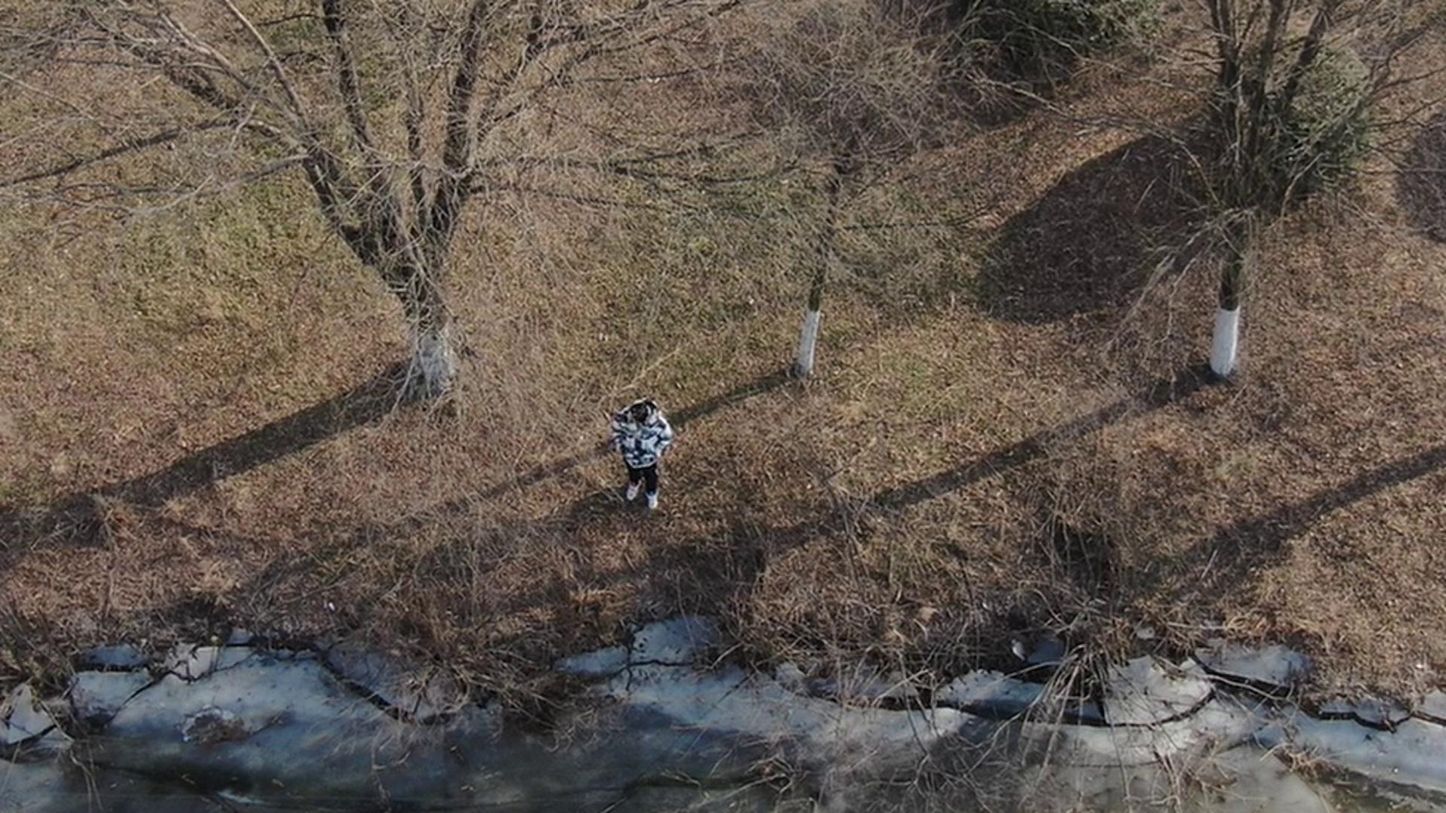human: (630, 417, 678, 531)
